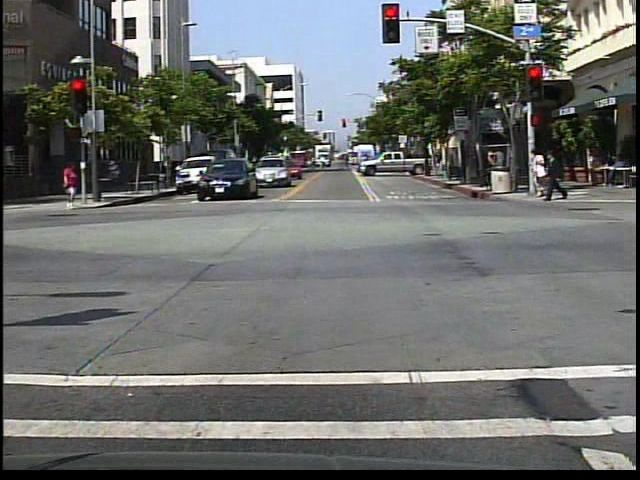person: (540, 148, 567, 205), (62, 160, 82, 212), (530, 146, 547, 201)
